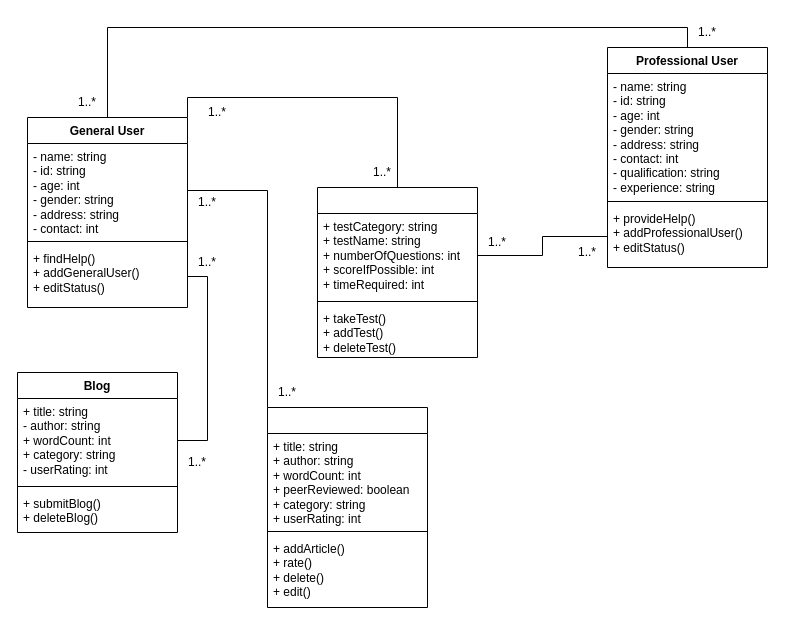
Image size: 785x627. Some labels were removed from this diagram. Each missing label, with the box of its shape:
Medical Articles: (266, 406, 428, 608)
Psychological Test: (316, 186, 478, 358)
